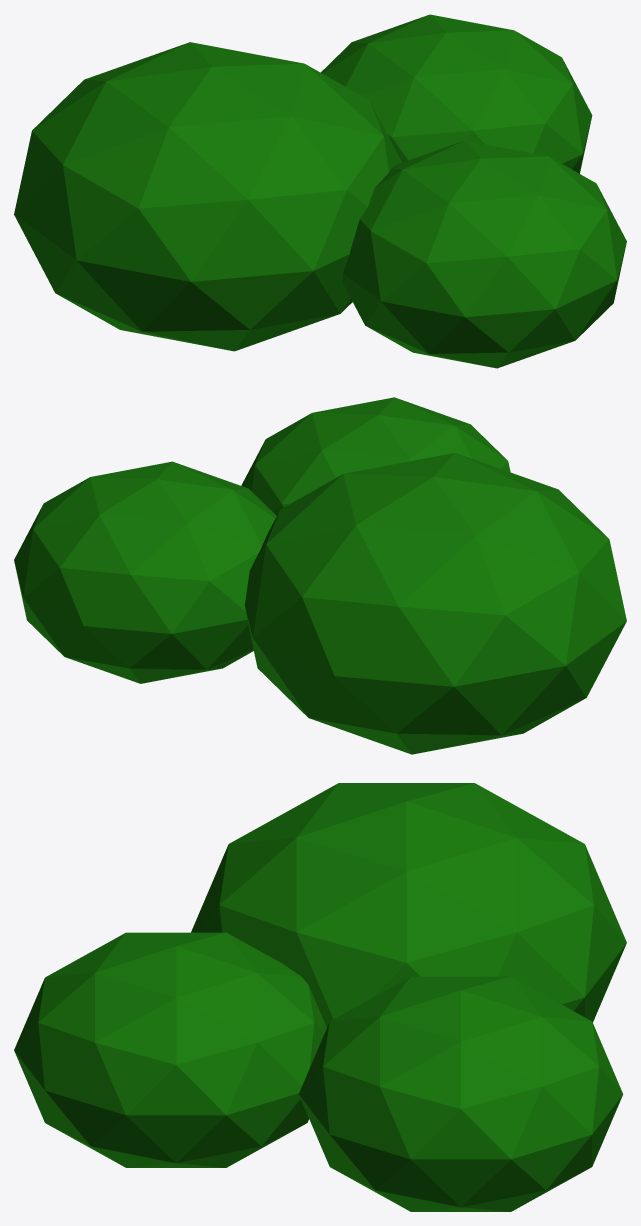
File: RealBush.fbx
The picture shows the model from 3 angles, top to bottom: view 1: azimuth 30°, elevation 25°; view 2: azimuth 150°, elevation 25°; view 3: azimuth 270°, elevation 25°; orthographic projection. The views are drawn at different scales.
Visible parts, largest first — view 1: Bush1; view 2: Bush1; view 3: Bush1.
Part boxes in pixels (box(x1,y1,x2,y2)): Bush1: box(14, 14, 626, 368); Bush1: box(14, 397, 626, 754); Bush1: box(14, 783, 626, 1211).
Size of the model in its own units: 313 by 142 by 278.
